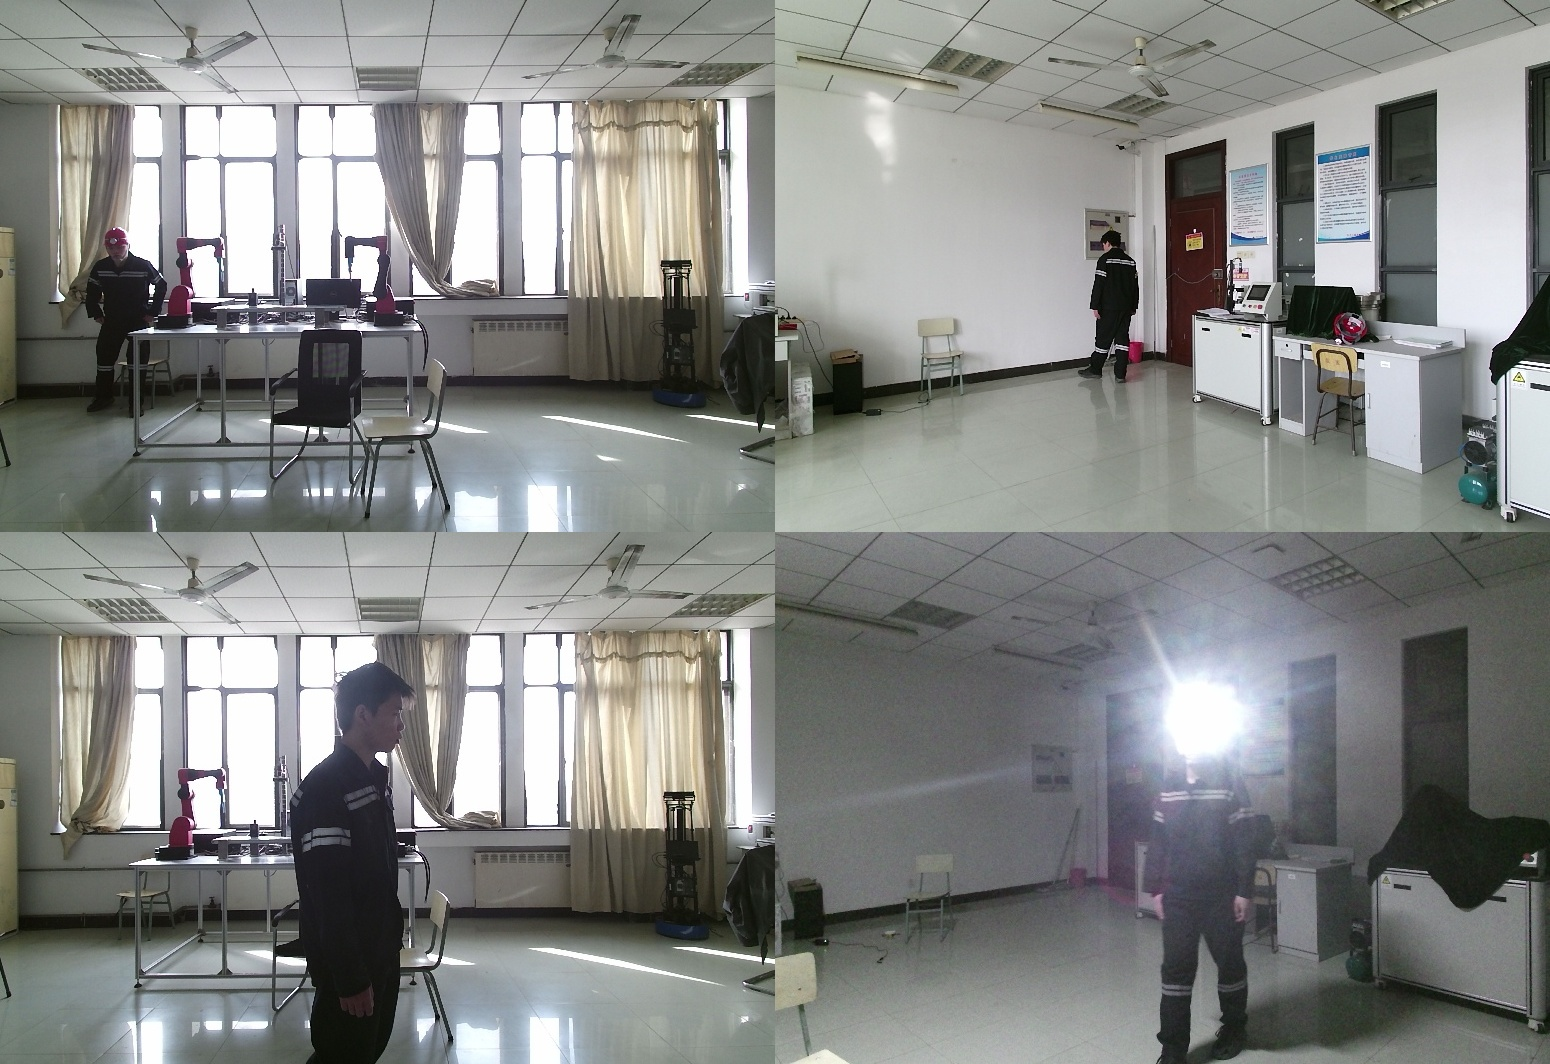person: (295, 663, 429, 1064), (1154, 709, 1276, 1064), (76, 229, 167, 415), (1082, 231, 1141, 384)
